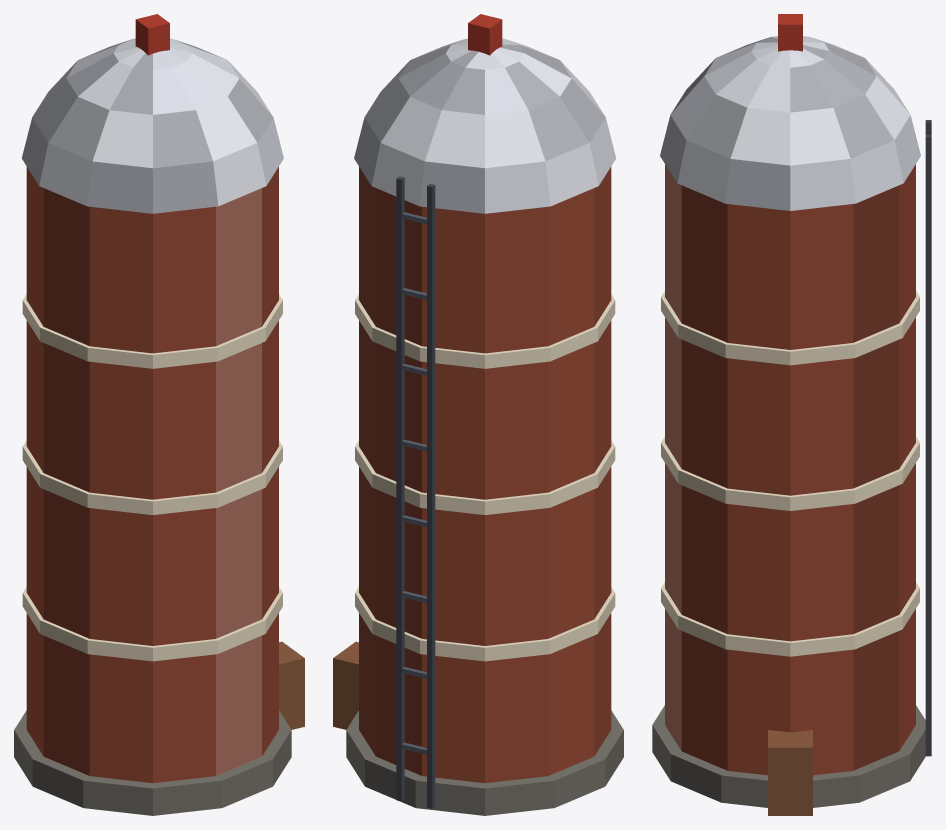
Rendered from SM_SiloTall.fbx.
3 renders of one model, left to right at view 1: azimuth 30°, elevation 25°; view 2: azimuth 150°, elevation 25°; view 3: azimuth 270°, elevation 25°, orthographic.
Parts seen in each view (by area): view 1: SM_SiloTall; view 2: SM_SiloTall; view 3: SM_SiloTall.
Part boxes in pixels (x1,y1,x2,y2): SM_SiloTall: (14, 14, 304, 815); SM_SiloTall: (333, 14, 623, 815); SM_SiloTall: (652, 14, 931, 815).
Bounding box in the file's own units: 5.97 × 16.1 × 5.56.
